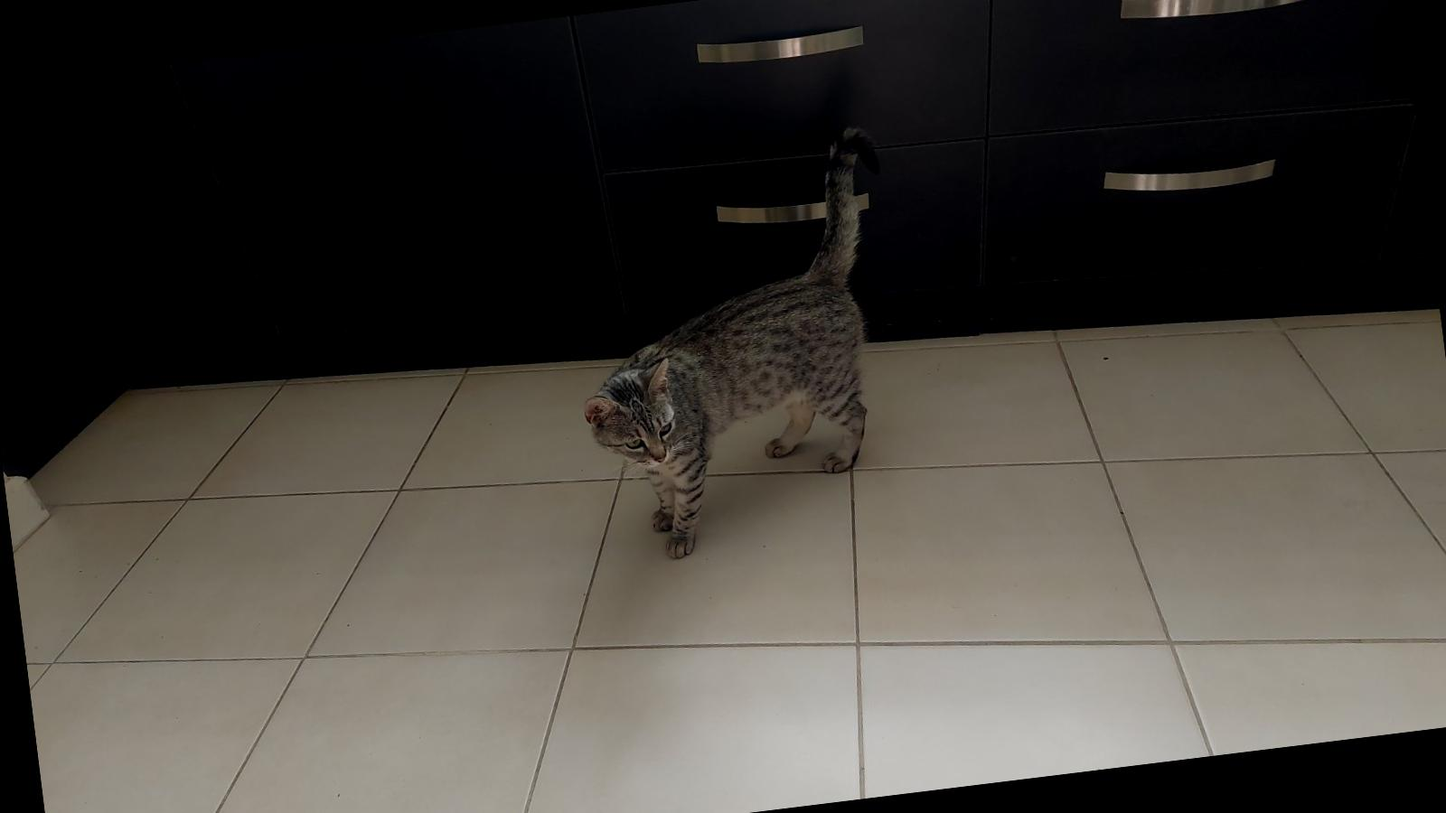macka: (553, 124, 925, 569)
